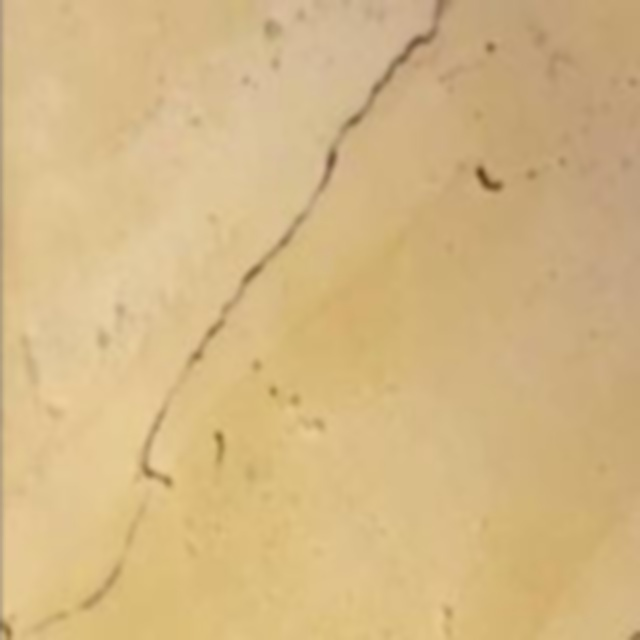SurfaceCrack: (88, 0, 464, 596)
